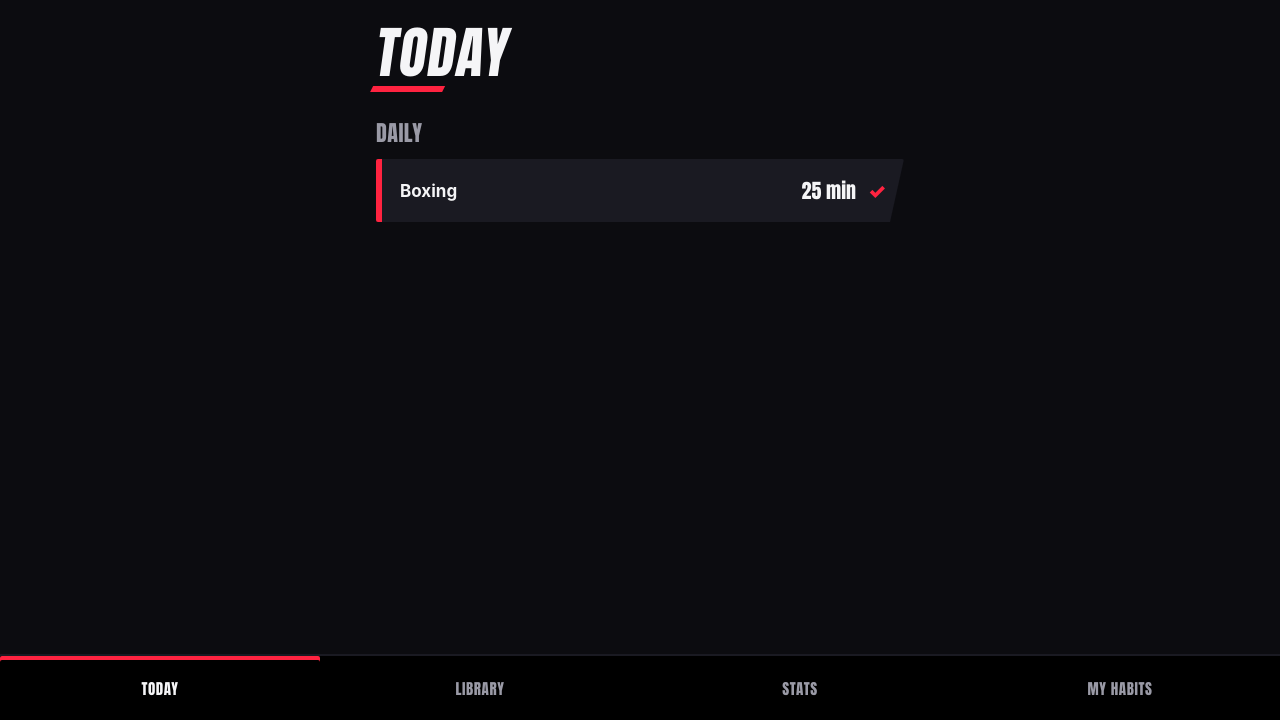
Test case: log sheet › deletes a session
The width and height of the screenshot is (1280, 720).
Click the button "Boxing 25 min ✓": (429, 190) [376,159,904,222]
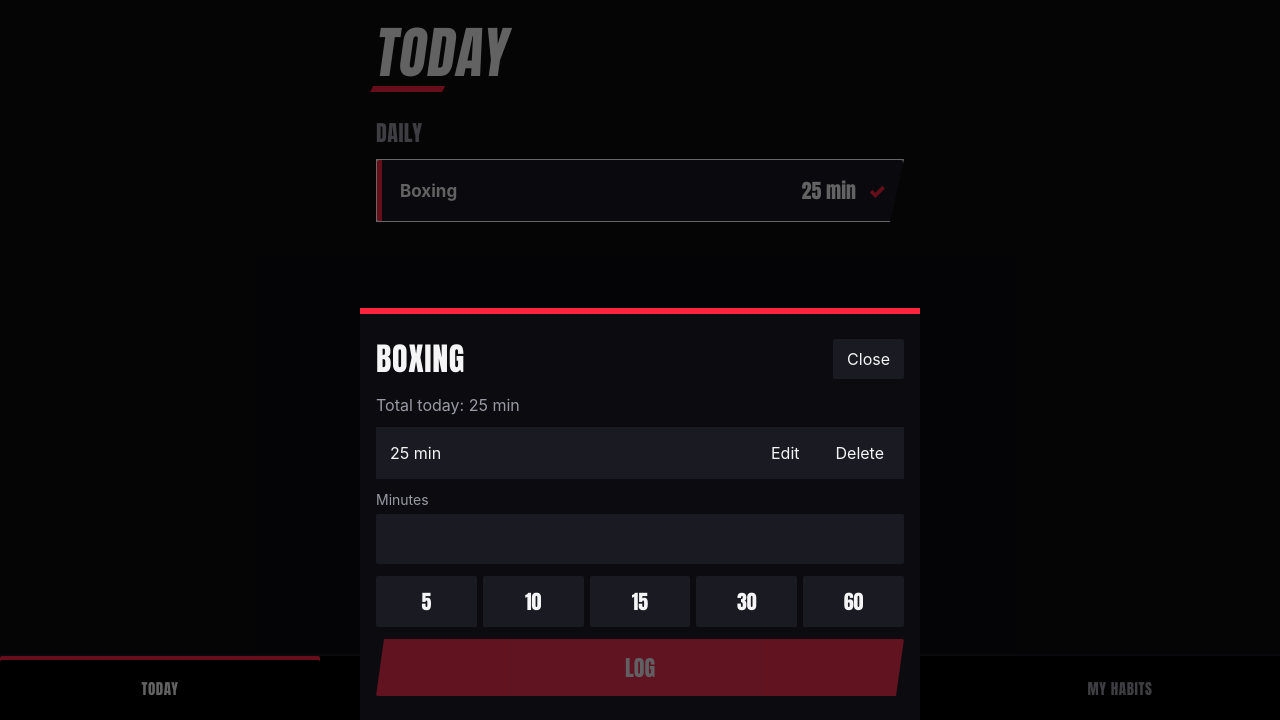
Click the button "Delete": (860, 453) [822,433,898,473]
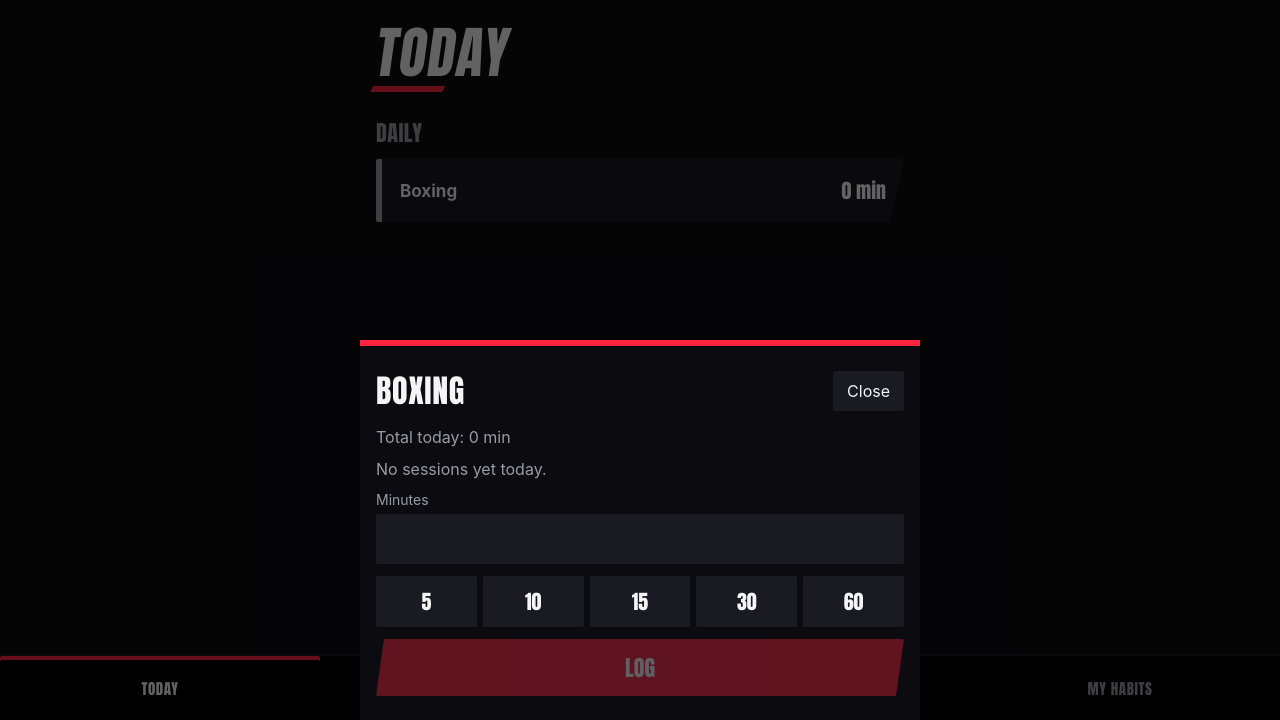
Expected: the text "No sessions yet today." is shown, [376,459,546,479]
